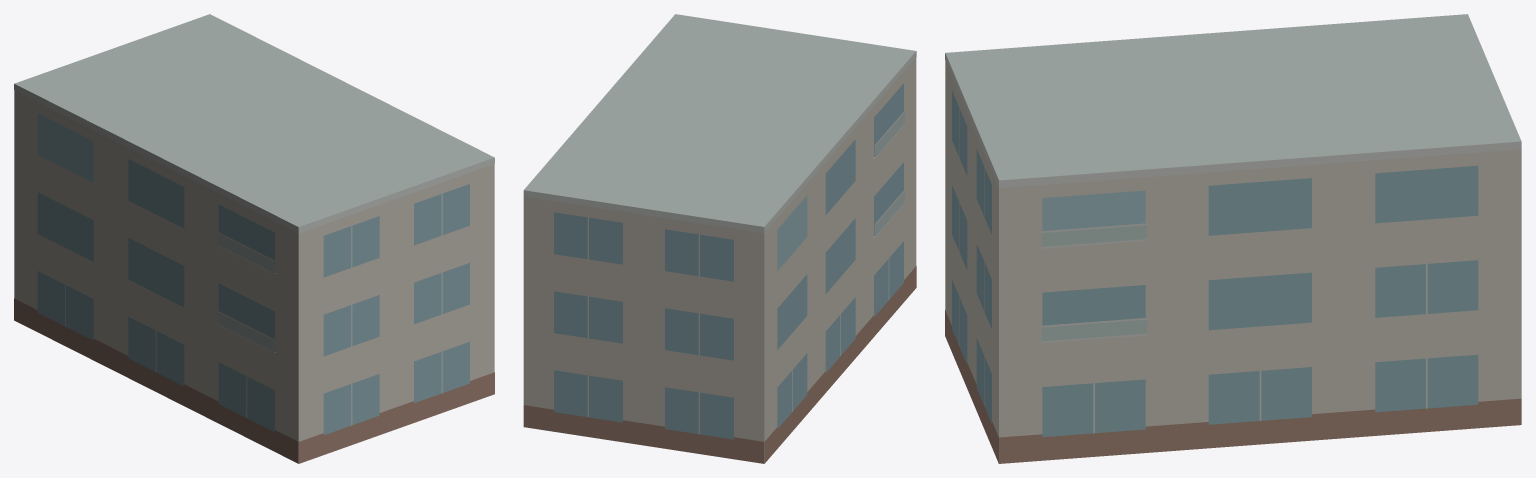
The model's file is survey-upis-32707329.glb.
3 views of the same model, side by side, from view 1: azimuth 30°, elevation 25°; view 2: azimuth 150°, elevation 25°; view 3: azimuth 270°, elevation 25° (orthographic). The views are drawn at different scales.
Parts seen in each view (by area): view 1: survey-upis-32707329.tmp; view 2: survey-upis-32707329.tmp; view 3: survey-upis-32707329.tmp.
Part boxes in pixels (box(x1,y1,x2,y2)): survey-upis-32707329.tmp: box(14, 14, 494, 463); survey-upis-32707329.tmp: box(523, 14, 916, 463); survey-upis-32707329.tmp: box(945, 14, 1521, 463).
Bounding box in the file's own units: 11.53 × 9.15 × 16.87.
